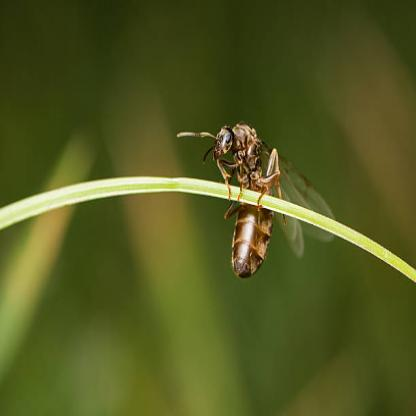sawfly: (174, 118, 338, 279)
